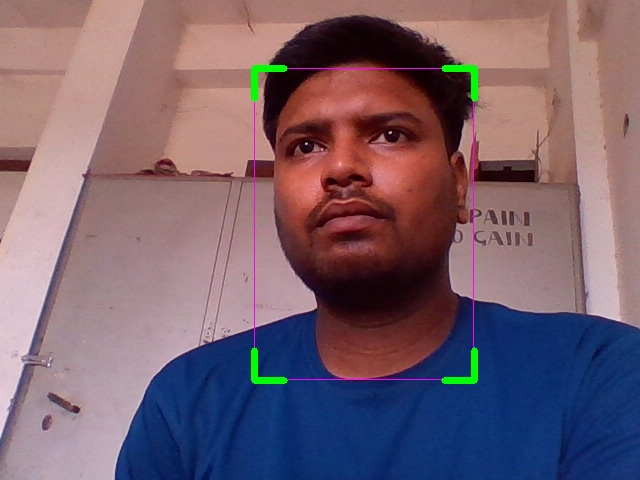real: (254, 68, 474, 380)
